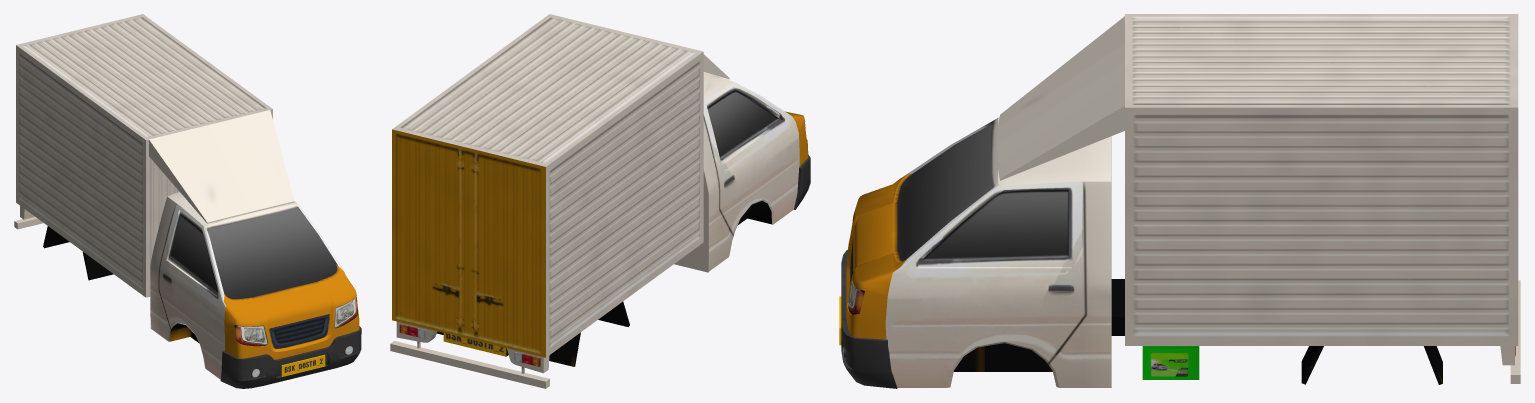
File: Dosth_Body.fbx
3 views of the same model, side by side, from view 1: azimuth 30°, elevation 25°; view 2: azimuth 150°, elevation 25°; view 3: azimuth 270°, elevation 25° (orthographic). The views are drawn at different scales.
Parts seen in each view (by area): view 1: Body.001, Light_Park, Light_LeftIndicator .001; view 2: Body.001; view 3: Body.001.
Part boxes in pixels (left/top/right/bottom): Body.001: left=14, top=14, right=361, bottom=388; Light_Park: left=244, top=301, right=353, bottom=377; Light_LeftIndicator .001: left=234, top=297, right=356, bottom=344; Body.001: left=390, top=14, right=810, bottom=388; Body.001: left=839, top=14, right=1520, bottom=388.
Bounding box in the file's own units: 397 × 1179 × 537.
